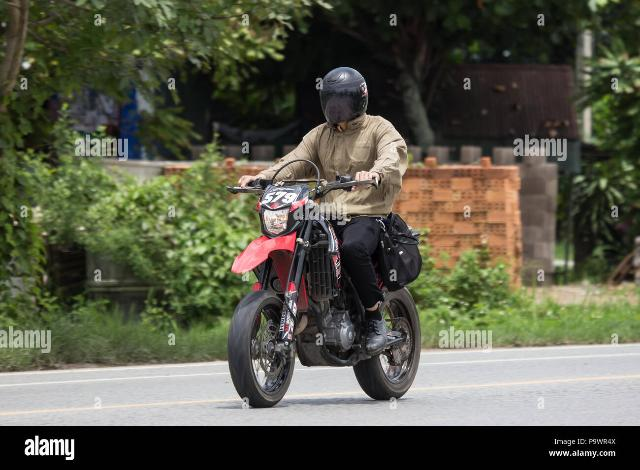helm: (316, 65, 374, 128)
motor: (222, 169, 433, 416)
